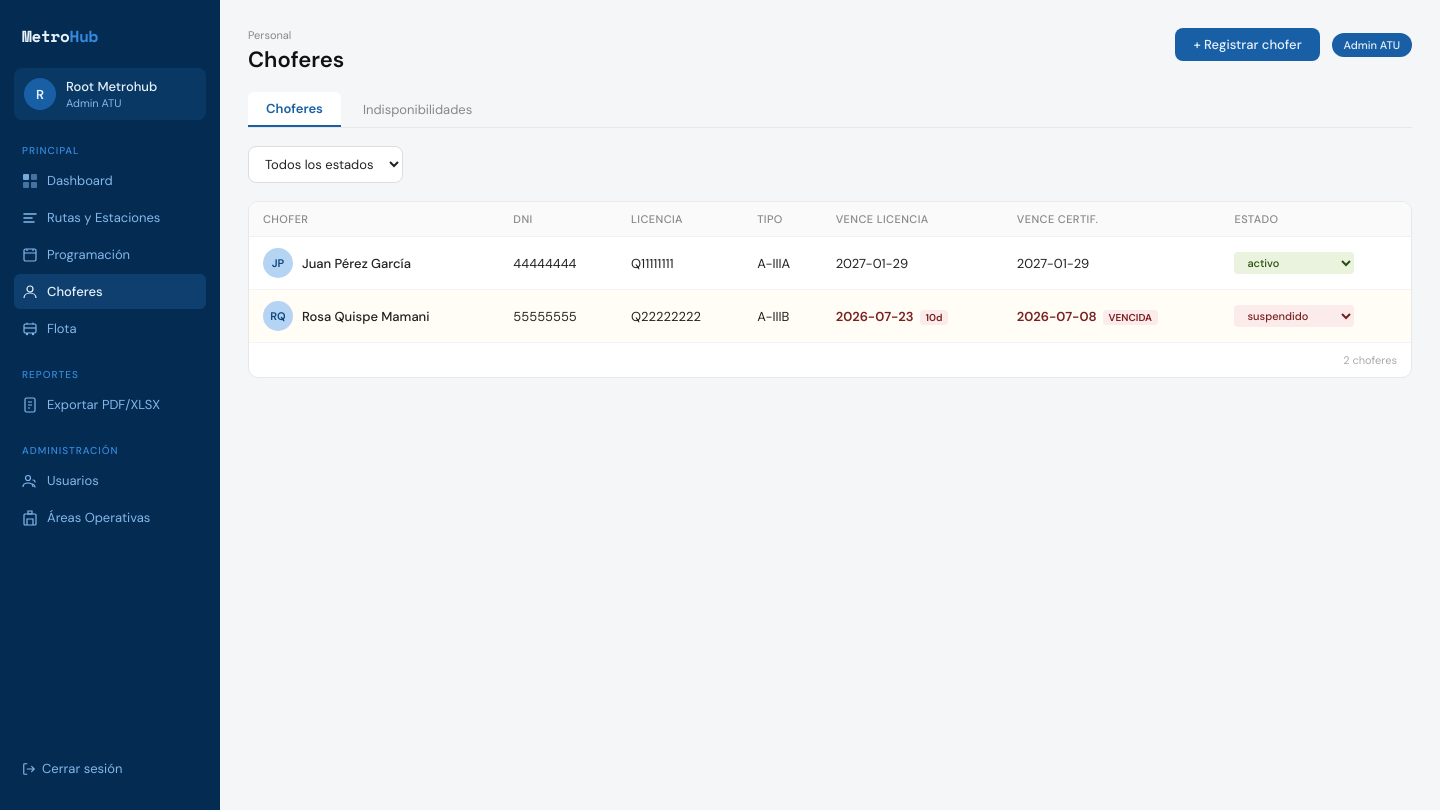
Test: Choferes (RF03) › registra una indisponibilidad para un chofer activo
Expected: the text "Juan Pérez García" is shown, [302,254,411,272]
Click the button "Indisponibilidades" at point(418, 110), box [345,92,490,127]
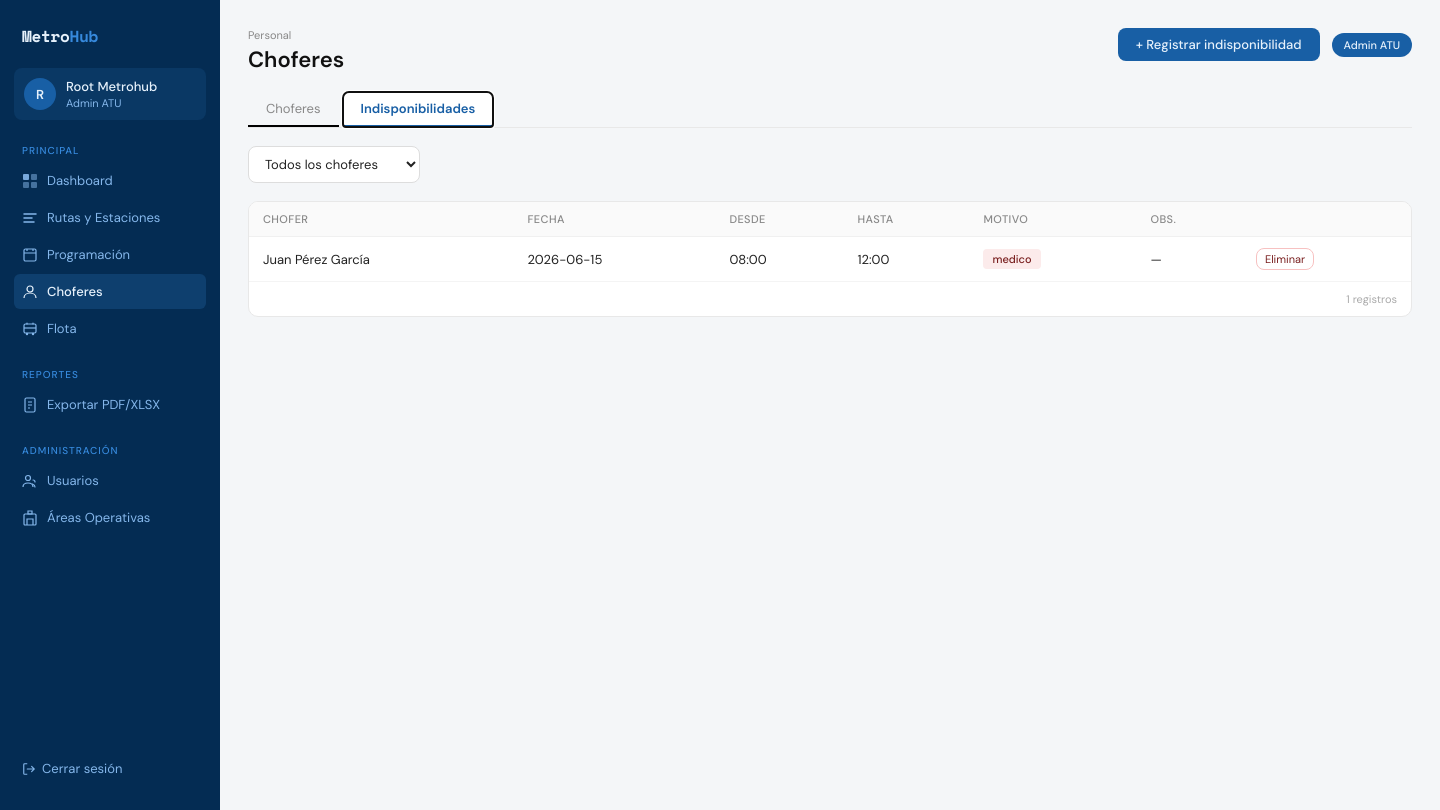
Click the button "+ Registrar indisponibilidad" at point(1219, 44), box [1118,28,1320,61]
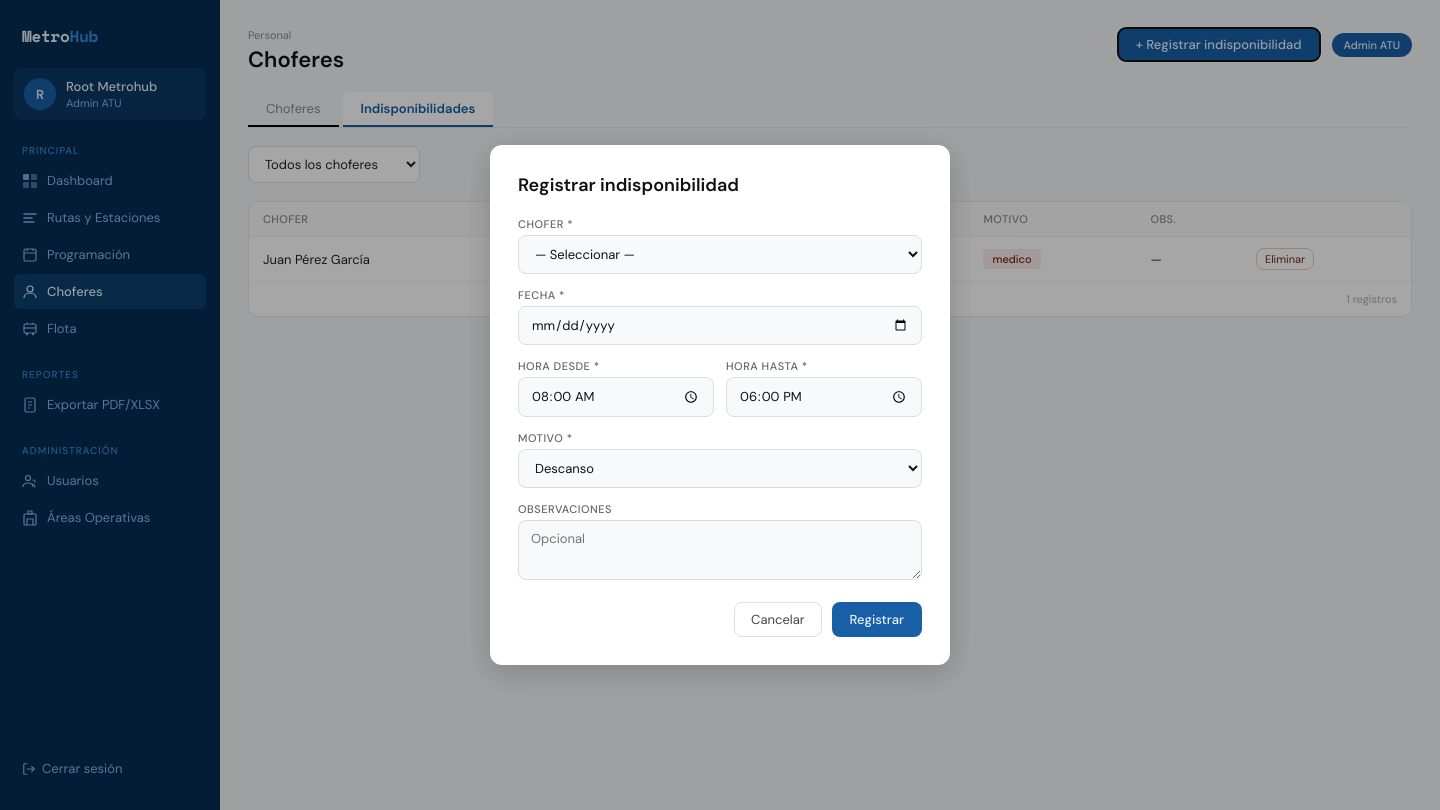
Validación con campos vacíos
Click the button "Registrar" at point(877, 619), box [832,602,922,637]
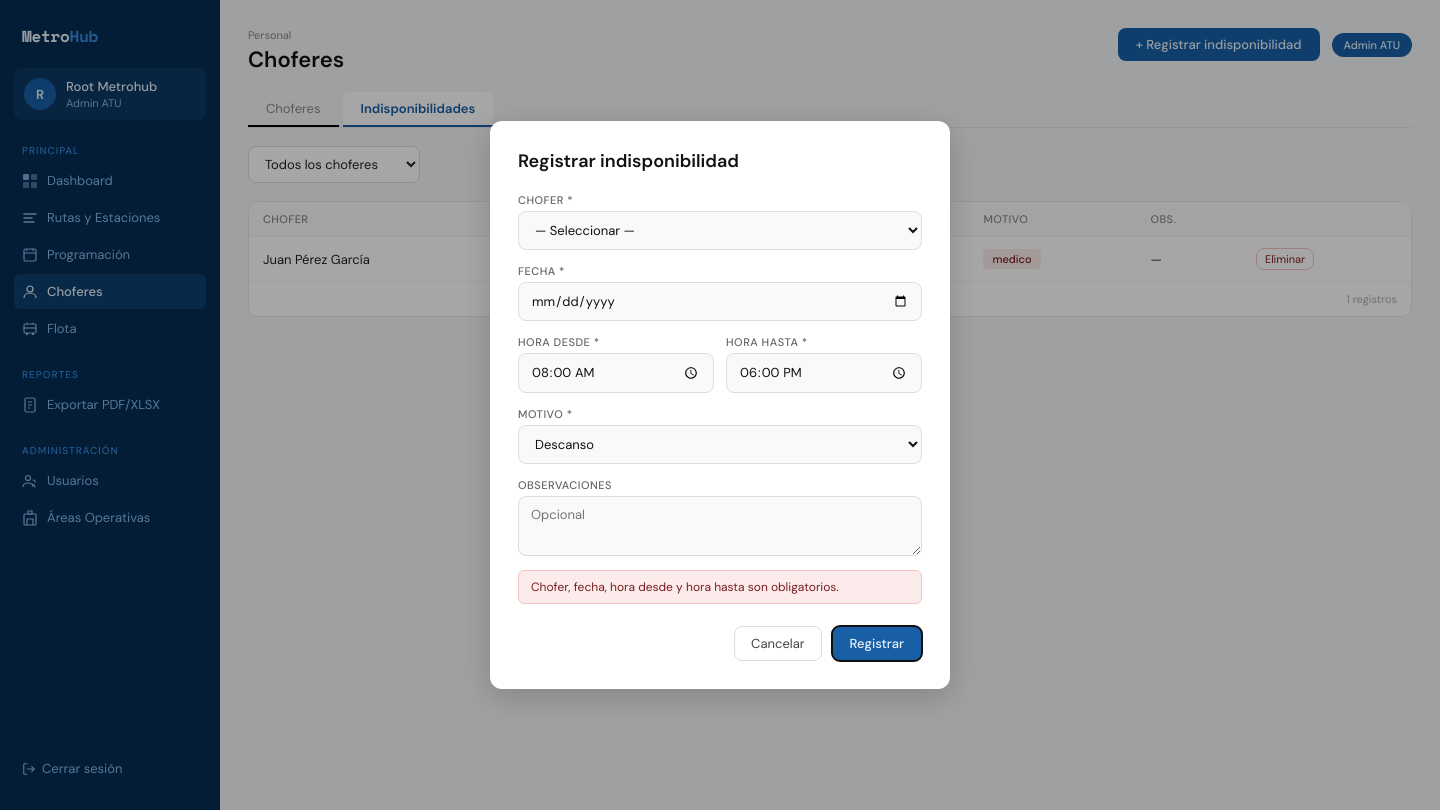
Now the text "Chofer, fecha, hora desde y hora hasta son obligatorios." is shown, box [531,579,839,595]
Select "Juan Pérez García" in the dropdown showing "— Seleccionar —" below "Chofer *" at point(720, 231), box [518,211,922,250]
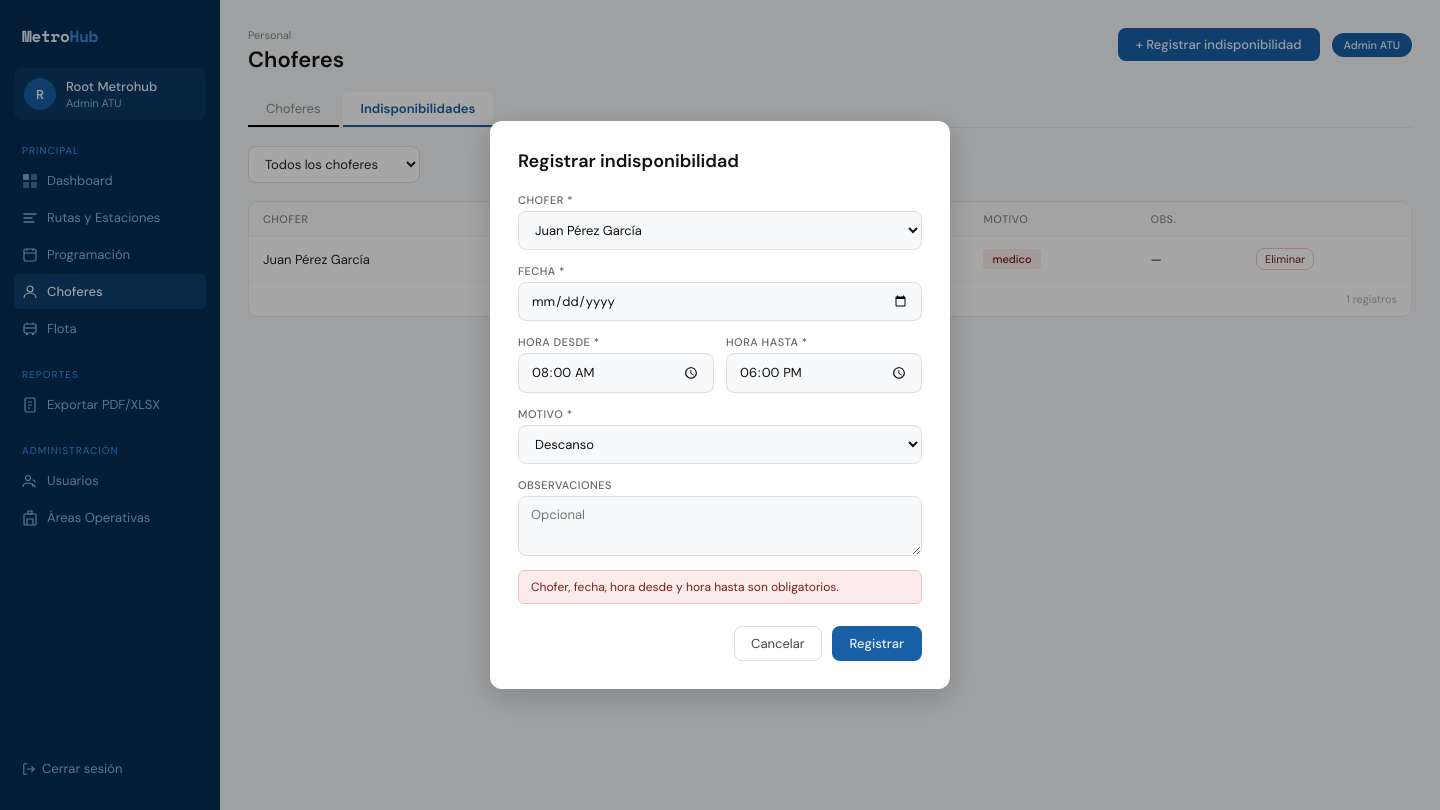
Type "2026-06-20" into the date field at point(720, 302), box [518,282,922,321]
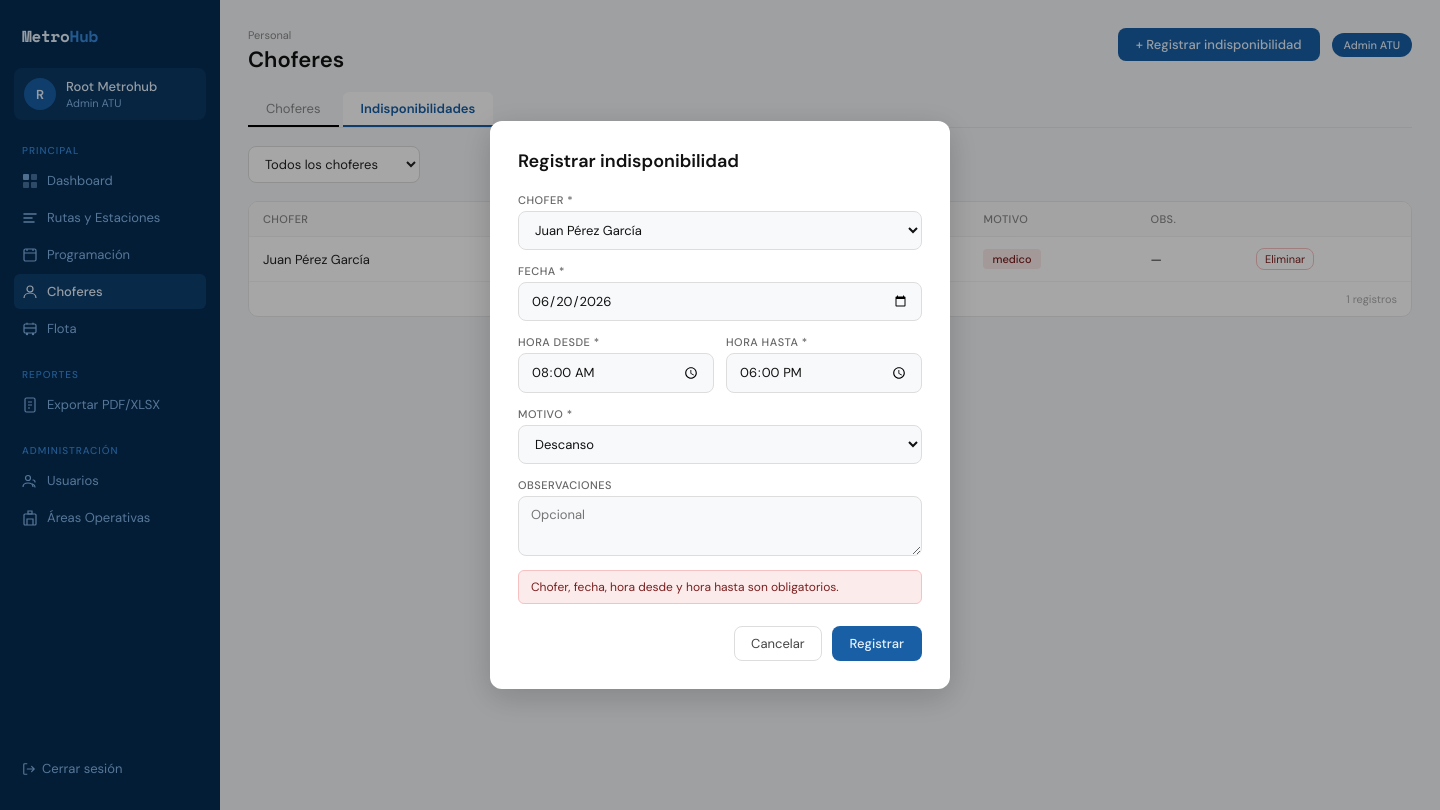
Click the button "Registrar" at point(877, 643), box [832,626,922,661]
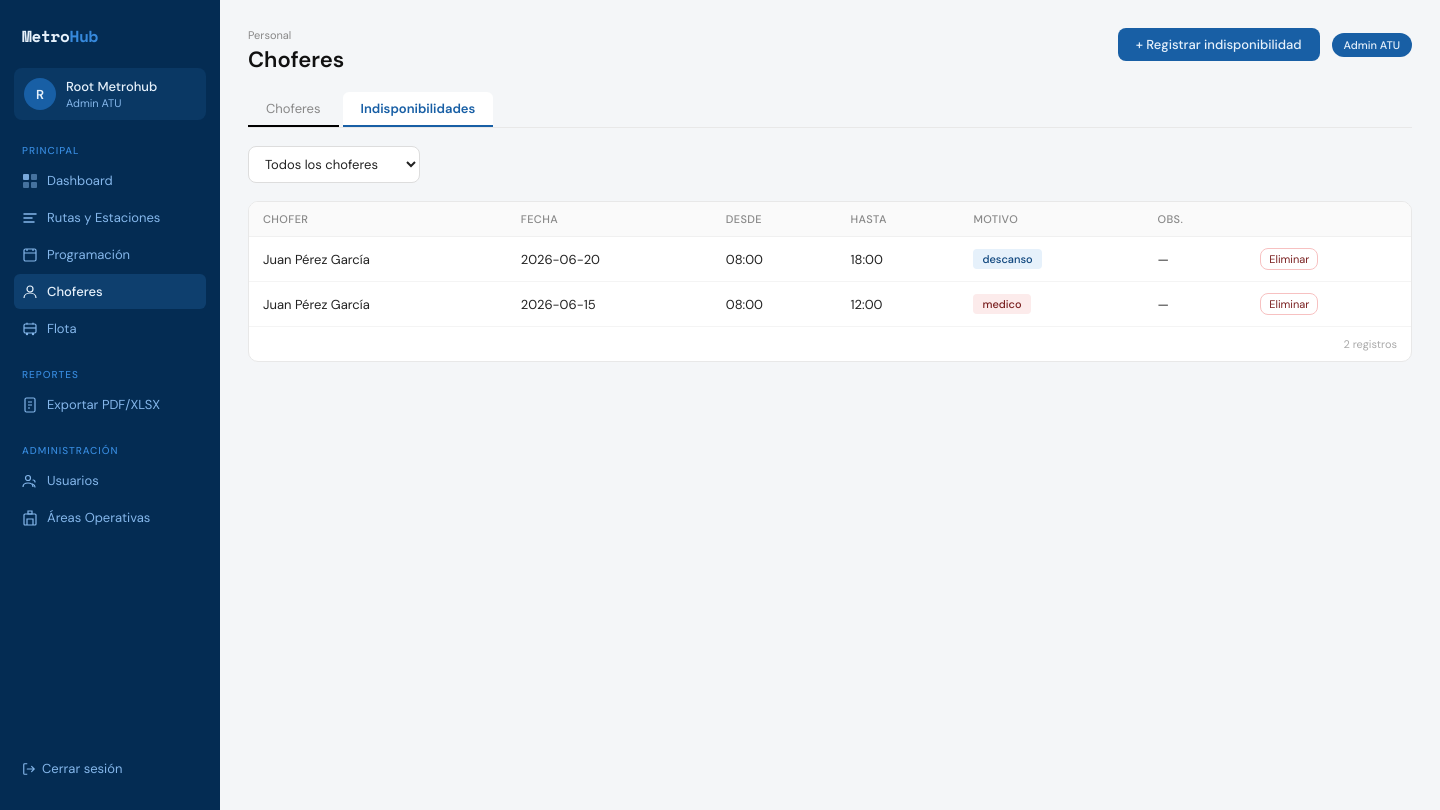
Now the text "2026-06-20" is shown, box [521,250,600,268]
Now the text "2 registros" is shown, box [1343,337,1397,351]
